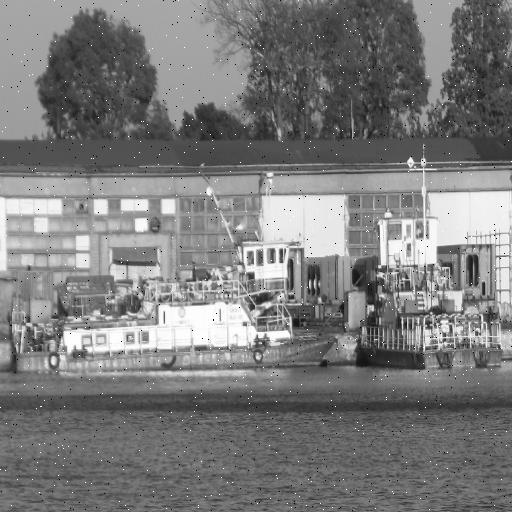tugboat: (10, 228, 343, 383)
